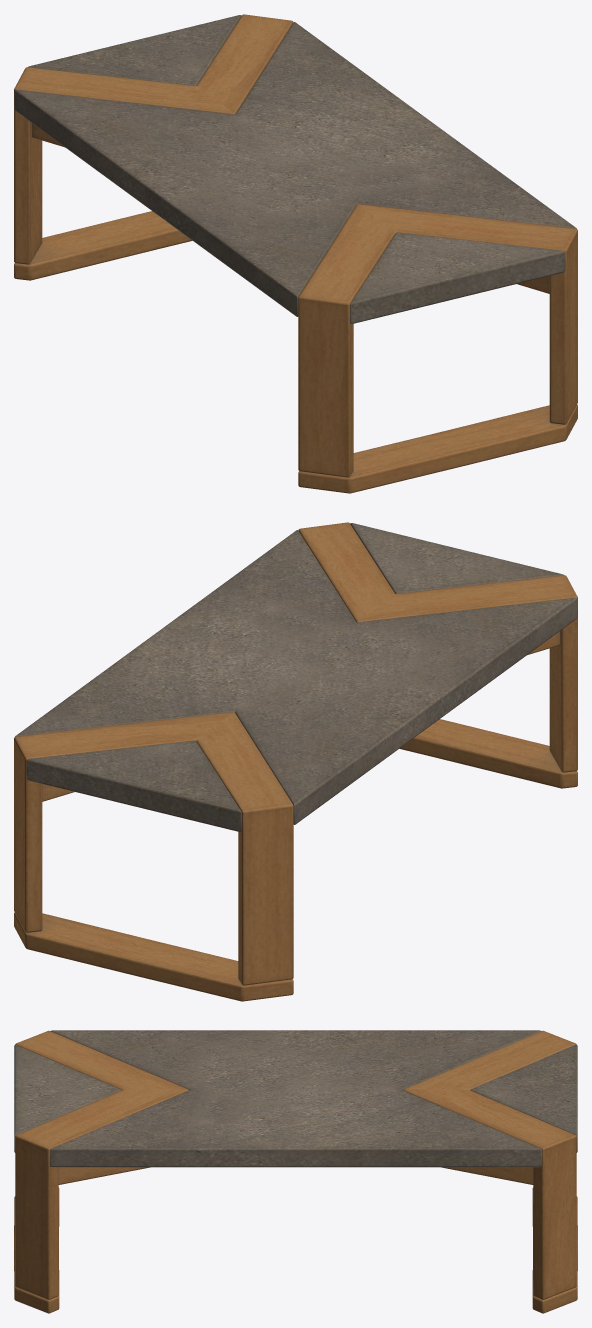
File: CoffeeTableConcrete.obj
3 renders of one model, top to bottom at view 1: azimuth 30°, elevation 25°; view 2: azimuth 150°, elevation 25°; view 3: azimuth 270°, elevation 25°, orthographic. The views are drawn at different scales.
Visible parts, largest first — view 1: Table; view 2: Table; view 3: Table.
Part boxes in pixels (<box>): Table: <box>14,14,577,493</box>; Table: <box>14,522,577,1001</box>; Table: <box>14,1030,577,1313</box>.
Bounding box in the file's own units: 0.6 × 0.39 × 1.2.
1 material, 1 textured.
